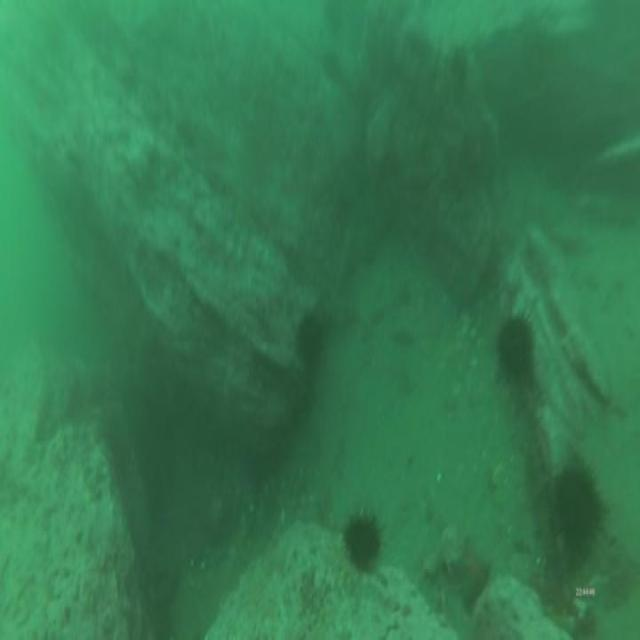echinus: (549, 460, 608, 562), (492, 308, 538, 390), (342, 502, 385, 569), (292, 308, 326, 370), (317, 44, 351, 95), (446, 41, 474, 85), (323, 0, 347, 28)
starfish: (445, 529, 495, 618)
